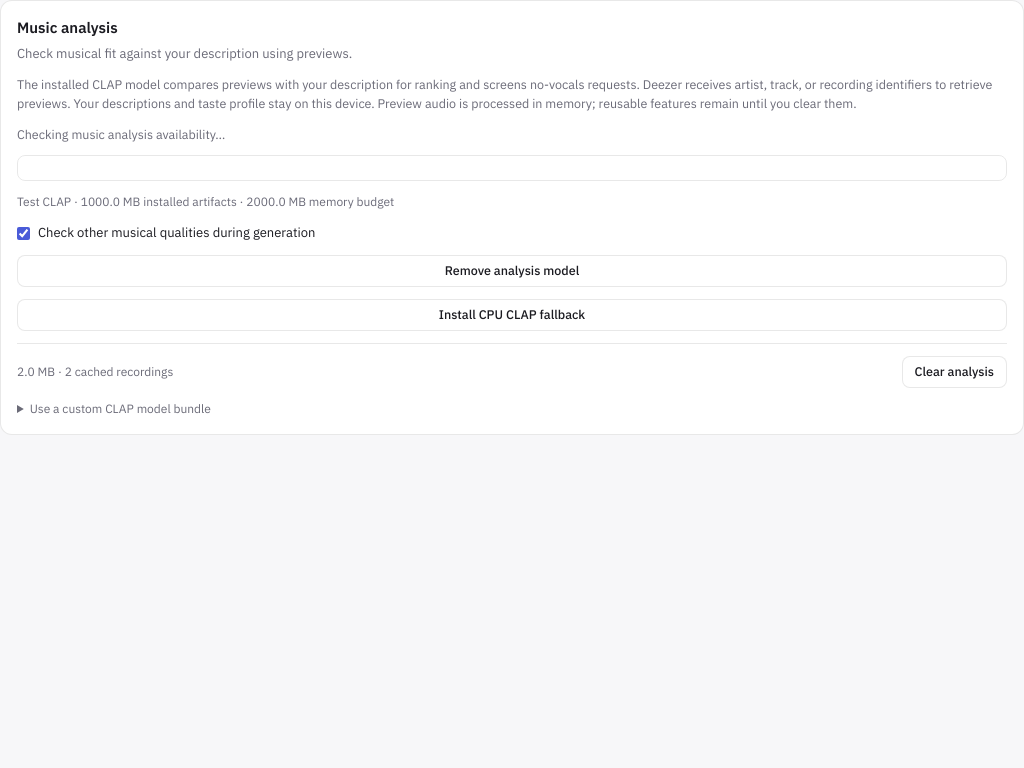
Test: installs and cancels the CPU CLAP fallback beside a CUDA model
Click the button "Install CPU CLAP fallback" at (512, 315), box [17,299,1007,331]
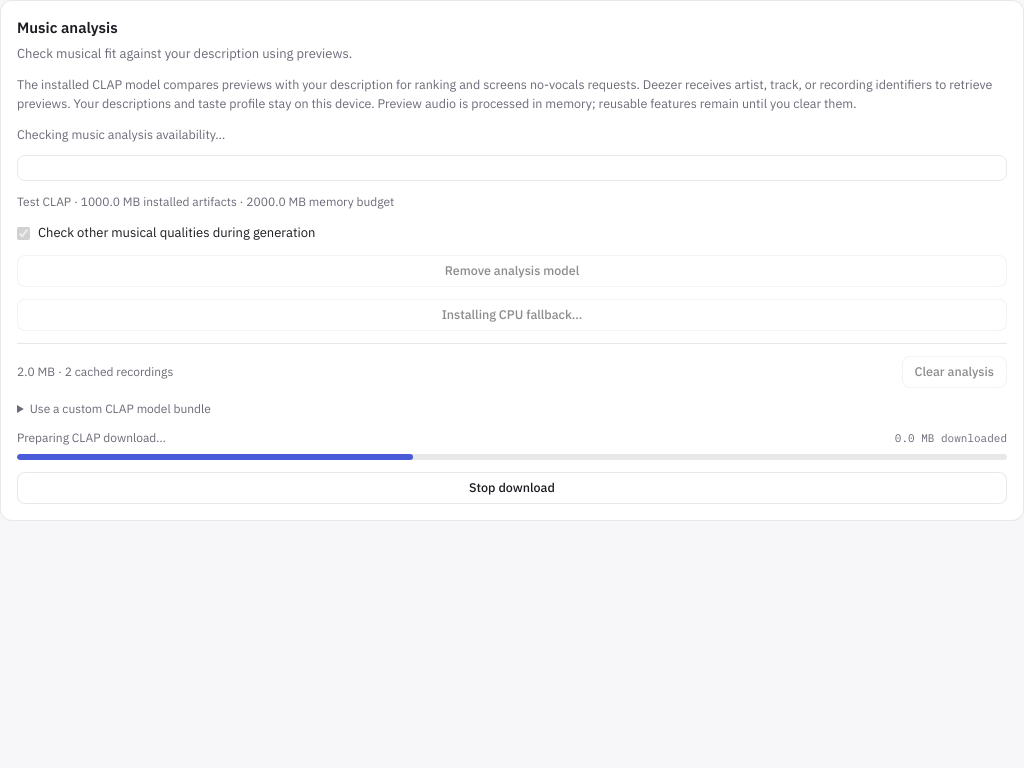
Expected: the progress indicator is shown, [17,454,1007,460]
